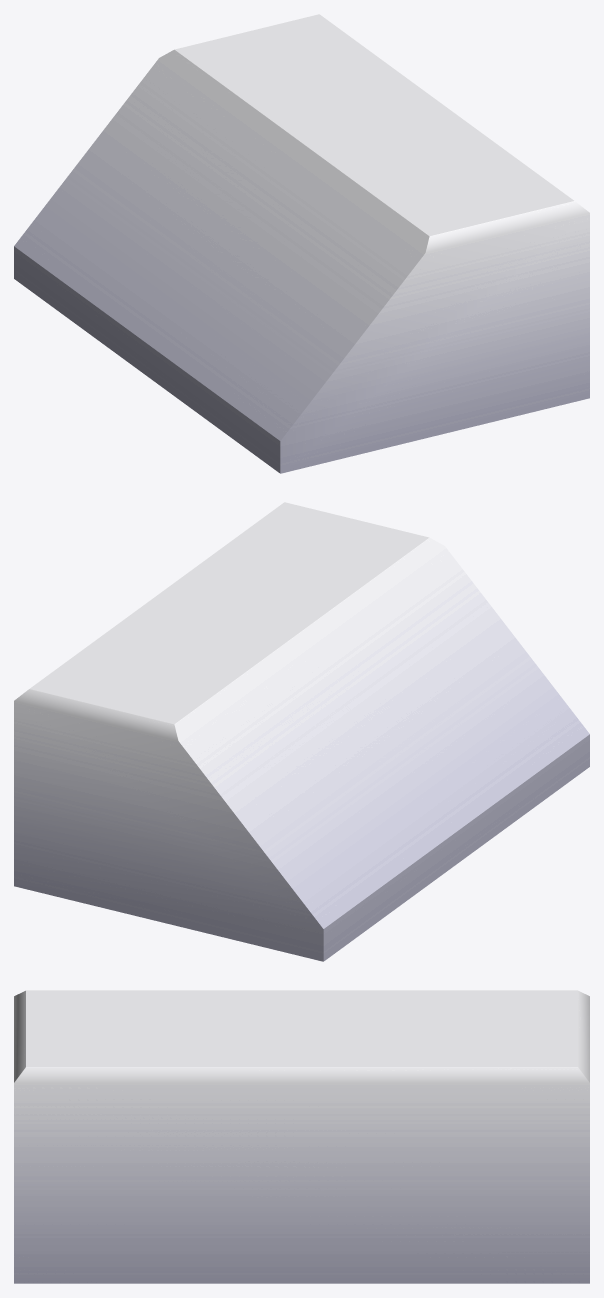
The model's file is brick-kit--none-hq-brick-slope-2x3.glb.
3 views of the same model, one above another, from view 1: azimuth 30°, elevation 25°; view 2: azimuth 150°, elevation 25°; view 3: azimuth 270°, elevation 25° (orthographic). The views are drawn at different scales.
Parts seen in each view (by area): view 1: none-hq-brick-slope-2x3; view 2: none-hq-brick-slope-2x3; view 3: none-hq-brick-slope-2x3.
Part boxes in pixels (<box>): none-hq-brick-slope-2x3: <box>14,14,589,473</box>; none-hq-brick-slope-2x3: <box>14,502,589,961</box>; none-hq-brick-slope-2x3: <box>14,990,589,1283</box>.
Size of the model in its own units: 0.159 by 0.096 by 0.237.
1 material, 1 textured.
